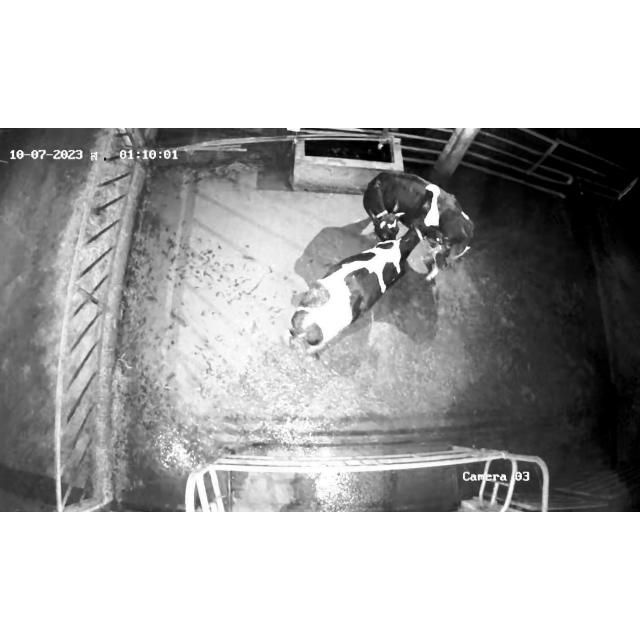propping: (401, 173, 454, 257)
